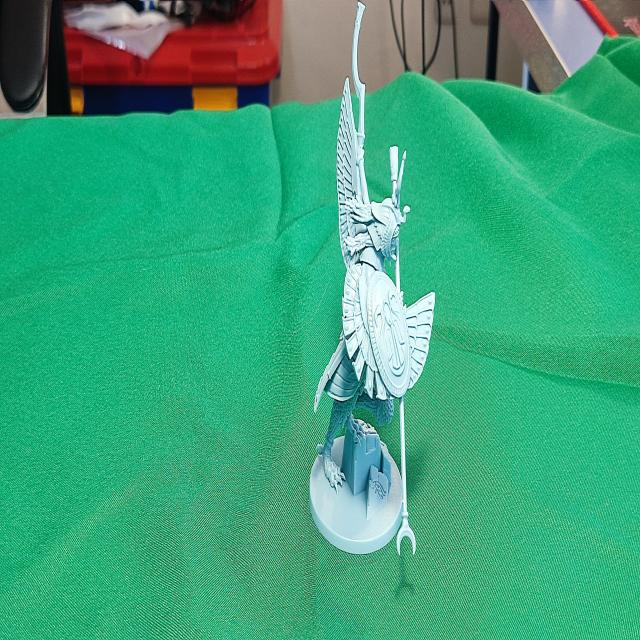isis: (309, 0, 444, 640)
